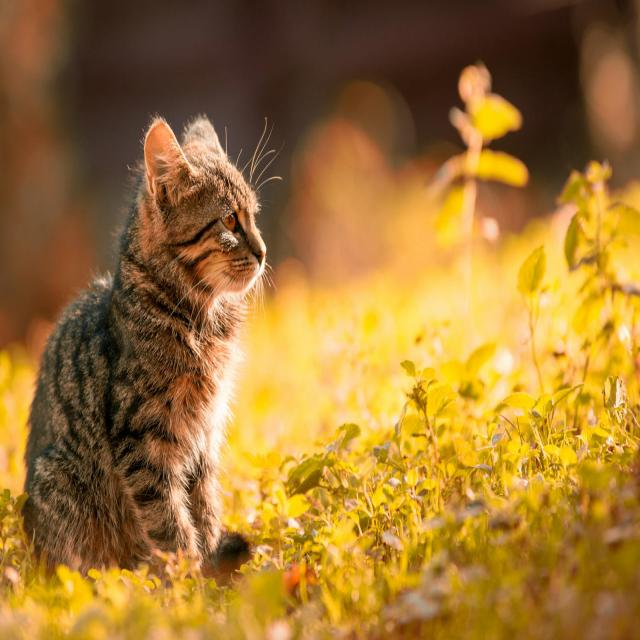Cat: (21, 111, 283, 582)
